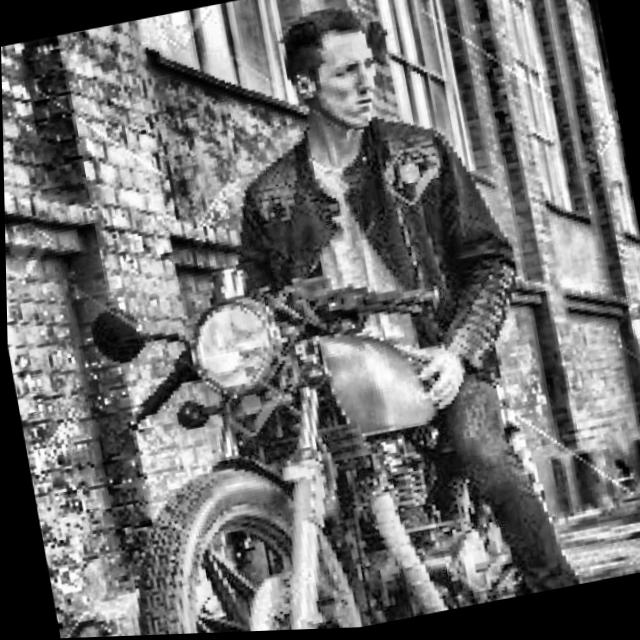motorcycle: (16, 204, 599, 640)
